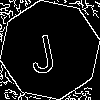J: (25, 25, 58, 75)
